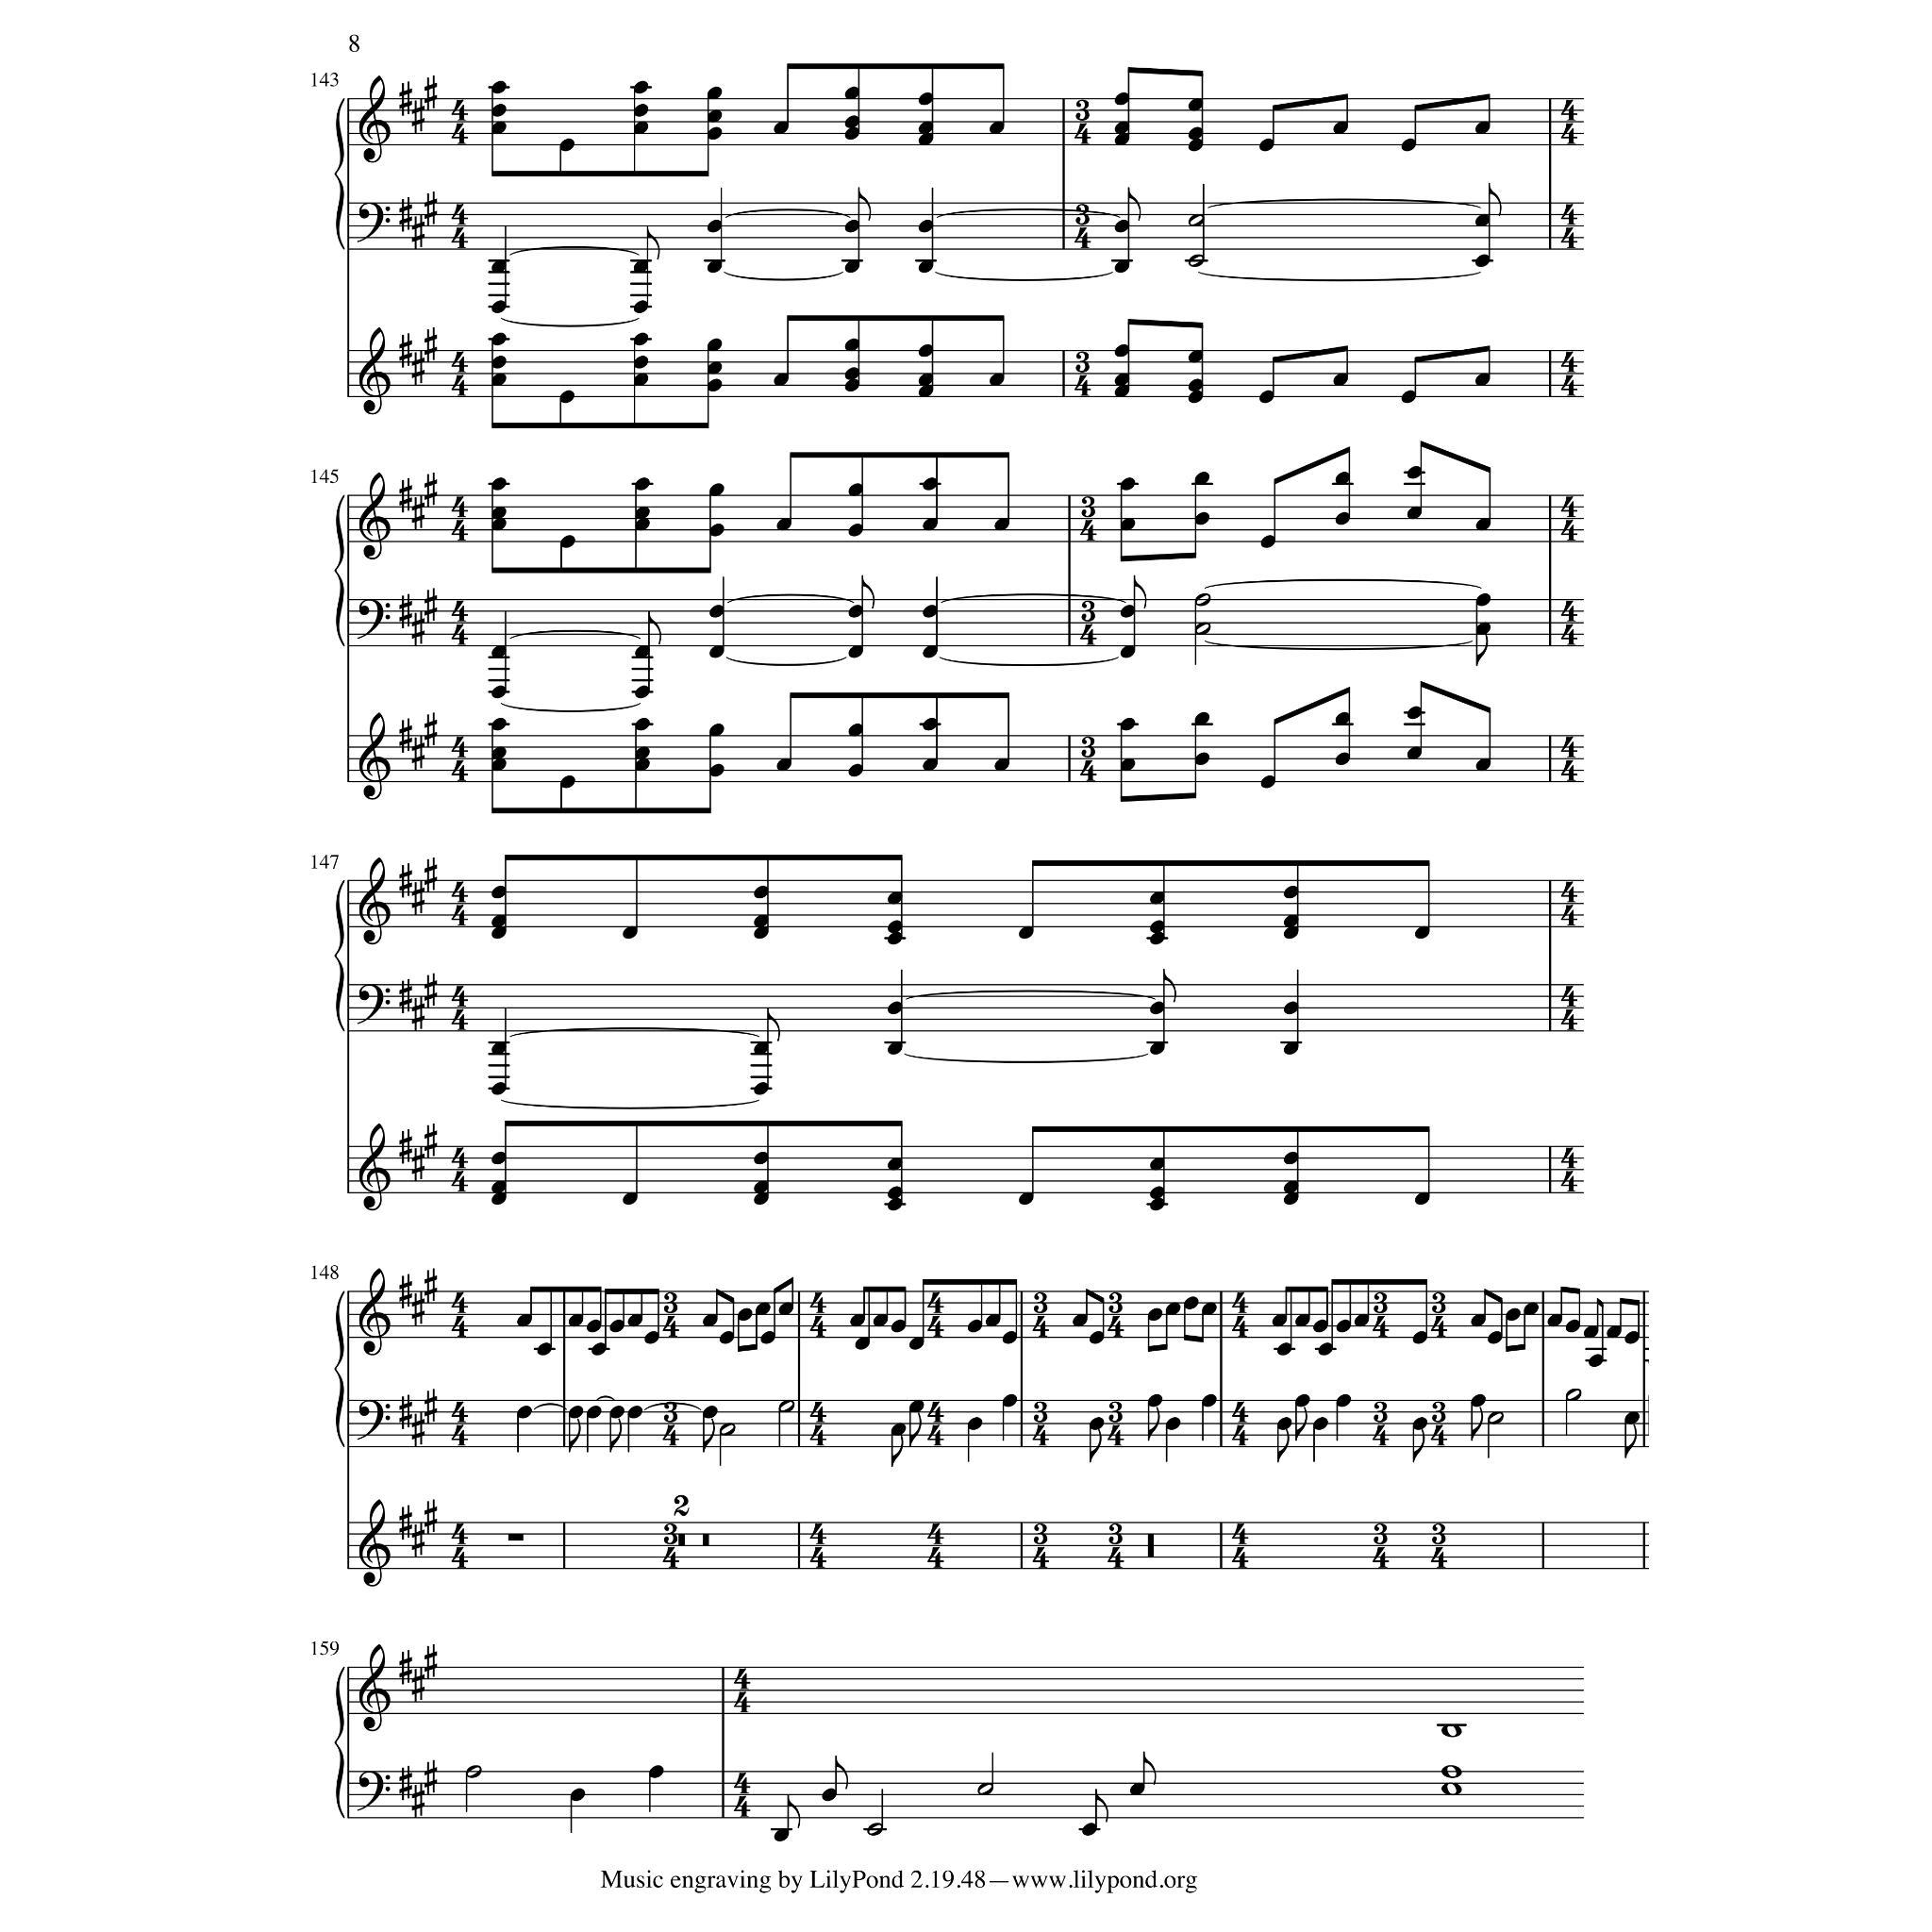brace: (333, 1292, 345, 1447), (333, 97, 345, 251), (333, 494, 345, 648), (333, 879, 345, 1033), (333, 1667, 345, 1819)
fClef: (357, 202, 391, 242), (357, 598, 391, 639), (357, 984, 391, 1024), (357, 1771, 391, 1812), (357, 1401, 391, 1440)
flag8thDown: (1476, 632, 1488, 667), (1412, 1428, 1424, 1463), (1277, 1428, 1290, 1463), (1090, 1428, 1102, 1463), (1624, 1424, 1637, 1458), (702, 1419, 715, 1453), (892, 1433, 904, 1467), (610, 1419, 623, 1453), (568, 1419, 580, 1453), (1148, 1408, 1161, 1442), (1295, 1408, 1307, 1442), (909, 1412, 922, 1445), (1472, 1408, 1483, 1442)
flag8thUp: (1488, 182, 1502, 218), (1095, 1789, 1109, 1824), (858, 188, 872, 221), (648, 612, 662, 646), (1162, 970, 1177, 1003), (766, 1008, 780, 1042), (787, 1796, 801, 1829), (1143, 1752, 1157, 1785), (1129, 188, 1141, 221), (648, 226, 660, 260), (1134, 575, 1146, 609), (862, 575, 874, 609), (835, 1757, 847, 1790)
gClef: (359, 76, 391, 165), (359, 327, 391, 416), (359, 472, 391, 561), (359, 713, 391, 801), (359, 858, 391, 947), (359, 1123, 391, 1212), (359, 1499, 391, 1587), (359, 1644, 391, 1732), (359, 1269, 391, 1355)
noteheadBlack: (1113, 343, 1131, 357), (1113, 373, 1131, 387), (1113, 219, 1131, 234), (1113, 260, 1131, 274), (1113, 92, 1131, 106), (1113, 133, 1131, 147), (886, 920, 904, 934), (886, 932, 904, 947), (886, 892, 904, 906), (886, 1042, 904, 1056), (886, 1001, 904, 1016), (886, 1198, 904, 1212), (886, 1187, 904, 1201), (886, 1157, 904, 1171), (1582, 1325, 1599, 1339), (759, 1330, 777, 1345), (1187, 97, 1203, 111), (1187, 138, 1203, 152), (1187, 379, 1203, 393), (1401, 138, 1417, 152), (1332, 373, 1348, 387), (1474, 373, 1490, 387), (1474, 214, 1490, 228), (559, 138, 575, 152), (989, 373, 1005, 387), (633, 333, 649, 347), (633, 373, 649, 387), (633, 260, 649, 274), (633, 301, 649, 315), (633, 103, 649, 117), (492, 333, 508, 347), (492, 373, 508, 387), (492, 260, 508, 274), (492, 301, 508, 315), (492, 103, 508, 117), (918, 133, 934, 147), (844, 338, 860, 352), (844, 366, 860, 380), (844, 379, 860, 393), (844, 260, 860, 274), (844, 87, 860, 101), (844, 219, 860, 234), (918, 343, 934, 357), (918, 373, 934, 387), (918, 219, 934, 234), (918, 260, 934, 274), (918, 92, 934, 106), (706, 219, 722, 234), (706, 379, 722, 393), (706, 338, 722, 352), (706, 110, 722, 124), (706, 87, 722, 101), (773, 373, 789, 387), (706, 260, 722, 274), (1194, 752, 1210, 766), (1260, 775, 1276, 789), (1120, 757, 1136, 771), (1120, 478, 1136, 492), (1120, 517, 1136, 531), (1407, 706, 1422, 720), (1407, 747, 1422, 761), (1407, 465, 1422, 479), (1407, 506, 1422, 520), (1334, 752, 1350, 766), (1476, 757, 1491, 771), (1476, 593, 1491, 607), (1476, 517, 1491, 531), (559, 775, 575, 789), (633, 747, 649, 761), (633, 757, 649, 771), (633, 685, 649, 699), (633, 478, 649, 492), (633, 506, 649, 520), (633, 517, 649, 531), (492, 747, 508, 761), (492, 757, 508, 771), (492, 685, 508, 699), (492, 478, 508, 492), (492, 506, 508, 520), (492, 517, 508, 531), (922, 478, 938, 492), (922, 517, 938, 531), (994, 757, 1010, 771), (994, 517, 1010, 531), (922, 757, 938, 771), (777, 517, 793, 531), (777, 757, 793, 771), (1150, 1157, 1166, 1171), (1283, 1042, 1299, 1056), (1283, 1001, 1299, 1016), (1283, 1180, 1299, 1194), (1283, 1152, 1299, 1166), (1150, 1187, 1166, 1201), (1150, 932, 1166, 947), (1150, 920, 1166, 934), (1150, 892, 1166, 906), (1150, 1042, 1166, 1056), (1150, 1001, 1166, 1016), (1150, 1198, 1166, 1212), (492, 1042, 508, 1056), (492, 1180, 508, 1194), (492, 1152, 508, 1166), (754, 1152, 770, 1166), (754, 1042, 770, 1056), (754, 1180, 770, 1194), (1606, 1325, 1622, 1339), (1624, 1330, 1640, 1345), (1470, 1394, 1486, 1408), (1488, 1330, 1504, 1345), (1412, 1330, 1428, 1345), (1589, 1353, 1605, 1368), (1523, 1302, 1539, 1316), (754, 1302, 770, 1316), (778, 1302, 794, 1316), (702, 1405, 718, 1419), (718, 1330, 734, 1345), (890, 1422, 906, 1437), (909, 1399, 925, 1414), (517, 1405, 533, 1419), (568, 1405, 584, 1419), (609, 1405, 625, 1419), (626, 1405, 642, 1419), (644, 1330, 660, 1345), (1336, 1394, 1352, 1408), (586, 1405, 602, 1419), (1201, 1302, 1217, 1316), (1201, 1394, 1217, 1408), (1146, 1394, 1162, 1408), (1164, 1302, 1180, 1316), (1295, 1394, 1311, 1408), (1001, 1330, 1017, 1345), (1001, 1394, 1017, 1408), (1090, 1330, 1106, 1345), (1081, 1822, 1097, 1836), (773, 1828, 789, 1842), (648, 1764, 663, 1778), (1113, 386, 1131, 398), (1113, 122, 1131, 134), (1270, 1315, 1288, 1327), (1260, 138, 1274, 152), (1187, 127, 1203, 140), (1187, 391, 1203, 403), (1187, 350, 1203, 363), (1401, 391, 1417, 403), (1332, 122, 1348, 134), (1474, 255, 1490, 267), (1474, 122, 1490, 134), (559, 391, 575, 403), (633, 122, 649, 134), (633, 356, 649, 368), (633, 81, 649, 94), (492, 122, 508, 134), (492, 356, 508, 368), (492, 81, 508, 94), (844, 117, 860, 129), (989, 122, 1005, 134), (918, 386, 934, 398), (918, 122, 934, 134), (844, 127, 860, 140), (706, 363, 722, 375), (773, 122, 789, 134), (706, 127, 722, 140), (1194, 713, 1210, 725), (1194, 472, 1210, 485), (1194, 513, 1210, 525), (1334, 472, 1350, 485), (1334, 513, 1350, 525), (1260, 536, 1276, 548), (1120, 718, 1136, 731), (1120, 605, 1136, 617), (1120, 646, 1136, 658), (1334, 713, 1350, 725), (1476, 623, 1491, 635), (559, 536, 575, 548), (633, 718, 649, 731), (633, 646, 649, 658), (492, 718, 508, 731), (492, 646, 508, 658), (922, 646, 938, 658), (847, 724, 863, 736), (847, 605, 863, 617), (847, 646, 863, 658), (847, 485, 863, 497), (847, 764, 863, 777), (922, 718, 938, 731), (922, 605, 938, 617), (709, 646, 725, 658), (709, 605, 725, 617), (709, 724, 725, 736), (709, 764, 725, 777), (847, 524, 863, 536), (709, 524, 725, 536), (709, 485, 725, 497), (1283, 927, 1299, 939), (1283, 915, 1299, 927), (1283, 886, 1299, 899), (1283, 1192, 1299, 1205), (1019, 927, 1035, 939), (1019, 1192, 1035, 1205), (1415, 1192, 1431, 1205), (1415, 927, 1431, 939), (492, 927, 508, 939), (492, 915, 508, 927), (492, 886, 508, 899), (492, 1083, 508, 1095), (492, 1192, 508, 1205), (623, 927, 639, 939), (623, 1192, 639, 1205), (754, 915, 770, 927), (754, 886, 770, 899), (754, 1083, 770, 1095), (754, 927, 770, 939), (754, 1192, 770, 1205), (1624, 1412, 1640, 1424), (1470, 1315, 1486, 1327), (1353, 1315, 1369, 1327), (1412, 1417, 1428, 1430), (1564, 1320, 1580, 1332), (1506, 1309, 1522, 1322), (1546, 1315, 1562, 1327), (738, 1309, 754, 1322), (702, 1315, 718, 1327), (855, 1338, 870, 1350), (872, 1315, 888, 1327), (890, 1320, 906, 1332), (909, 1338, 925, 1350), (849, 1315, 865, 1327), (517, 1315, 533, 1327), (536, 1343, 552, 1355), (568, 1315, 584, 1327), (626, 1315, 642, 1327), (609, 1320, 625, 1332), (586, 1320, 602, 1332), (591, 1343, 607, 1355), (1184, 1297, 1200, 1309), (1164, 1417, 1180, 1430), (1313, 1320, 1329, 1332), (1313, 1417, 1329, 1430), (1295, 1315, 1311, 1327), (1318, 1343, 1334, 1355), (1336, 1320, 1352, 1332), (1277, 1343, 1293, 1355), (1277, 1417, 1293, 1430), (984, 1315, 1000, 1327), (1072, 1315, 1088, 1327), (966, 1320, 982, 1332), (966, 1417, 982, 1430), (1146, 1309, 1162, 1322), (1090, 1417, 1106, 1430), (821, 1789, 837, 1801), (1129, 1783, 1145, 1796), (570, 1789, 586, 1801), (1260, 391, 1274, 403)
noteheadHalf: (1187, 214, 1205, 228), (1194, 593, 1212, 607), (718, 1422, 736, 1437), (865, 1822, 883, 1836), (778, 1399, 794, 1414), (1187, 255, 1205, 267), (1194, 623, 1212, 635), (1486, 1412, 1504, 1424), (1566, 1389, 1582, 1401), (977, 1783, 993, 1796), (465, 1766, 481, 1778)
noteheadWhole: (1440, 1764, 1461, 1778), (1440, 1723, 1461, 1737), (1440, 1783, 1461, 1796)
restDoubleWhole: (702, 1534, 709, 1546)
restHNr: (672, 1493, 690, 1518)
restLonga: (1146, 1532, 1155, 1557)
restWhole: (508, 1534, 524, 1541), (678, 1534, 685, 1546)
